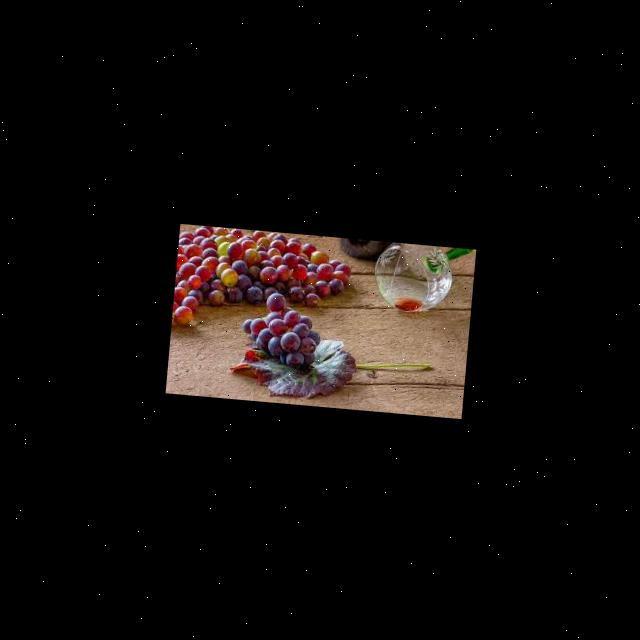grape: (170, 222, 354, 340), (238, 288, 322, 367)
